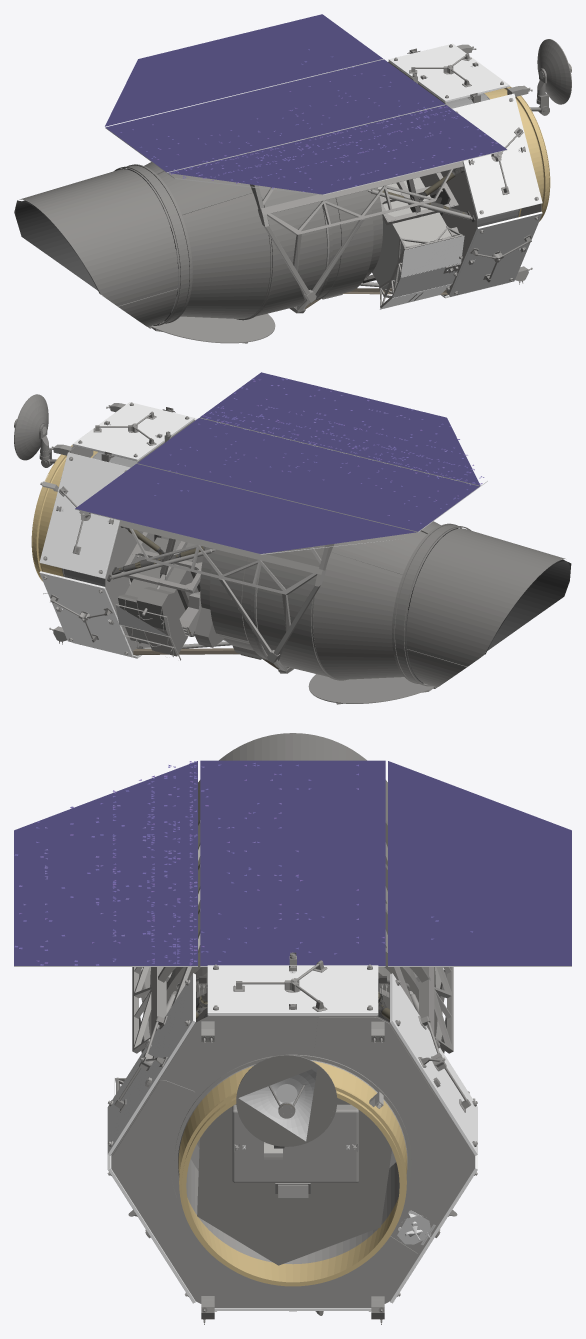
Rendered from roman.glb.
3 renders of one model, top to bottom at view 1: azimuth 30°, elevation 25°; view 2: azimuth 150°, elevation 25°; view 3: azimuth 270°, elevation 25°, orthographic. The views are drawn at different scales.
Visible parts, largest first — view 1: afta2015-maintube; view 2: afta2015-maintube; view 3: afta2015-maintube.
Boxes of the visible parts, x1,y1,x2,y2 form: afta2015-maintube: [14, 14, 571, 343]; afta2015-maintube: [14, 372, 571, 704]; afta2015-maintube: [14, 733, 571, 1324].
Bounding box in the file's own units: 12 × 4.55 × 7.22.
